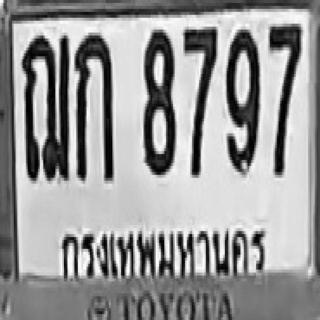A01: (74, 34, 112, 179)
A12: (21, 33, 69, 181)
N00: (225, 27, 258, 172)
N07: (182, 25, 216, 176), (268, 22, 301, 173)
N08: (142, 28, 175, 173)
N09: (224, 25, 258, 173)
P04: (57, 215, 269, 281)
